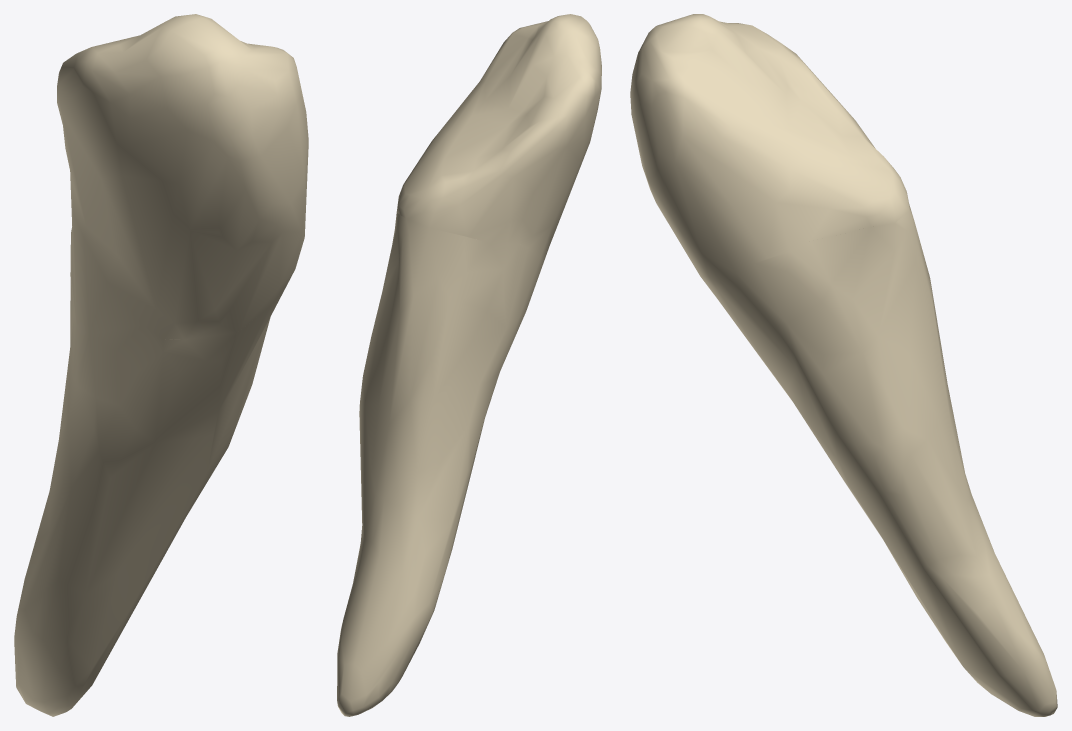
Rendered from esqueleto-lower-canine-r.glb.
3 renders of one model, left to right at view 1: azimuth 30°, elevation 25°; view 2: azimuth 150°, elevation 25°; view 3: azimuth 270°, elevation 25°, orthographic. The views are drawn at different scales.
Parts seen in each view (by area): view 1: Lower canine.r; view 2: Lower canine.r; view 3: Lower canine.r.
Part boxes in pixels (x1,y1,x2,y2): Lower canine.r: (14,14,308,716); Lower canine.r: (337,14,601,716); Lower canine.r: (630,14,1057,716).
Bounding box in the file's own units: 0.00769 × 0.0262 × 0.0152.
